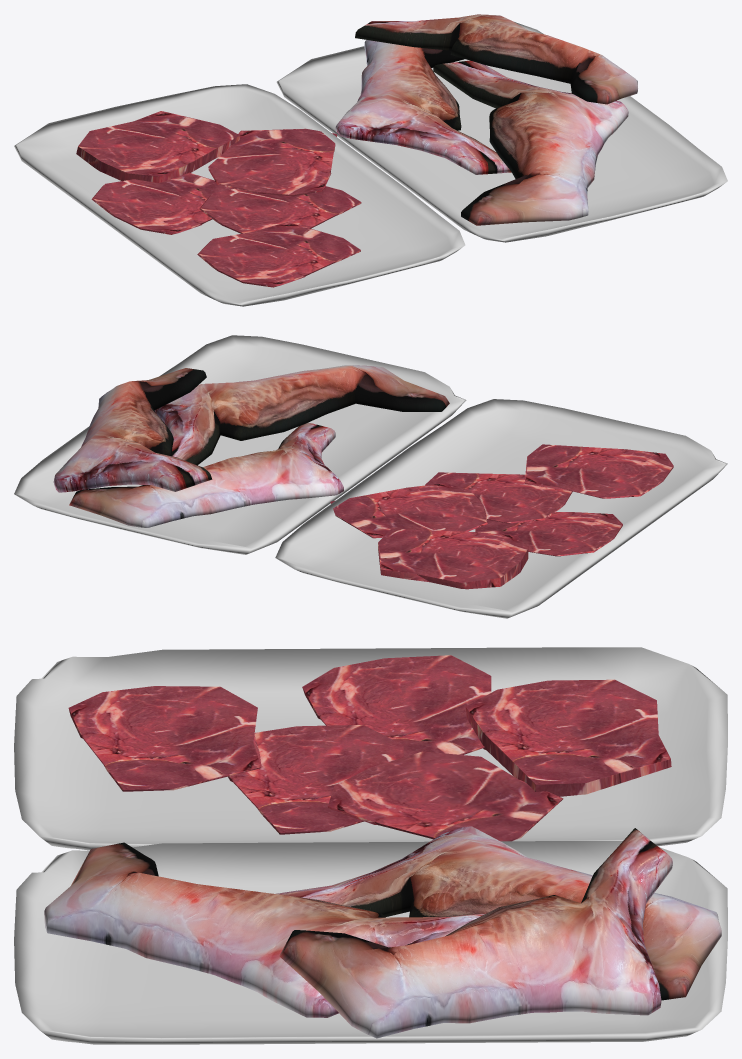
Rendered from coniglio.fbx.
The picture shows the model from 3 angles, top to bottom: view 1: azimuth 30°, elevation 25°; view 2: azimuth 150°, elevation 25°; view 3: azimuth 270°, elevation 25°; orthographic projection. The views are drawn at different scales.
Visible parts, largest first — view 1: AM216_27_plate_big_00_1_remesh_1, AM216_27_plate_big_00_1_remesh, coniglio__2, coniglio__1, coniglio_, fettina, fettina_4, fettina_2, fettina_1, fettina_3; view 2: AM216_27_plate_big_00_1_remesh_1, AM216_27_plate_big_00_1_remesh, coniglio__2, coniglio__1, coniglio_, fettina, fettina_2, fettina_4, fettina_3, fettina_1; view 3: AM216_27_plate_big_00_1_remesh_1, AM216_27_plate_big_00_1_remesh, coniglio_, coniglio__2, coniglio__1, fettina, fettina_2, fettina_4, fettina_1, fettina_3.
Part boxes in pixels (x1,y1,x2,y2): AM216_27_plate_big_00_1_remesh_1: [14, 84, 465, 306]; AM216_27_plate_big_00_1_remesh: [276, 22, 727, 242]; coniglio__2: [433, 60, 628, 225]; coniglio__1: [335, 40, 511, 174]; coniglio_: [355, 14, 637, 104]; fettina: [76, 111, 240, 182]; fettina_4: [208, 128, 337, 196]; fettina_2: [197, 222, 360, 287]; fettina_1: [91, 172, 233, 234]; fettina_3: [199, 186, 361, 233]; AM216_27_plate_big_00_1_remesh_1: [275, 399, 727, 618]; AM216_27_plate_big_00_1_remesh: [14, 335, 466, 554]; coniglio__2: [154, 365, 449, 465]; coniglio__1: [69, 422, 343, 527]; coniglio_: [53, 368, 212, 492]; fettina: [378, 529, 528, 589]; fettina_2: [524, 444, 673, 498]; fettina_4: [330, 483, 487, 538]; fettina_3: [425, 472, 572, 523]; fettina_1: [475, 512, 622, 556]; AM216_27_plate_big_00_1_remesh_1: [14, 647, 727, 850]; AM216_27_plate_big_00_1_remesh: [14, 841, 727, 1044]; coniglio_: [279, 828, 672, 1038]; coniglio__2: [44, 842, 487, 1017]; coniglio__1: [276, 826, 721, 1000]; fettina: [465, 679, 671, 796]; fettina_2: [68, 686, 261, 791]; fettina_4: [327, 751, 563, 841]; fettina_1: [302, 655, 491, 756]; fettina_3: [228, 725, 403, 834].
Bounding box in the file's own units: 71.8 × 8.89 × 55.29.
